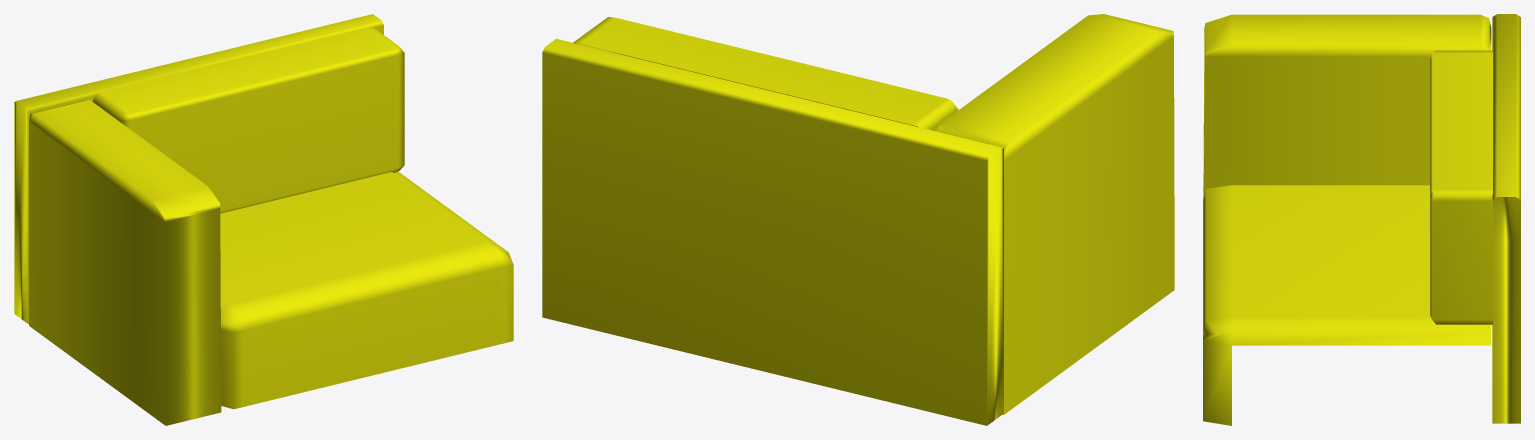
Rendered from SILLONL.fbx.
3 renders of one model, left to right at view 1: azimuth 30°, elevation 25°; view 2: azimuth 150°, elevation 25°; view 3: azimuth 270°, elevation 25°, orthographic. The views are drawn at different scales.
Parts seen in each view (by area): view 1: SILLONL; view 2: SILLONL; view 3: SILLONL.
Part boxes in pixels (x1,y1,x2,y2): SILLONL: (14,14,513,425); SILLONL: (542,14,1174,425); SILLONL: (1203,14,1520,425).
Bounding box in the file's own units: 2.13 × 1.23 × 1.56.
